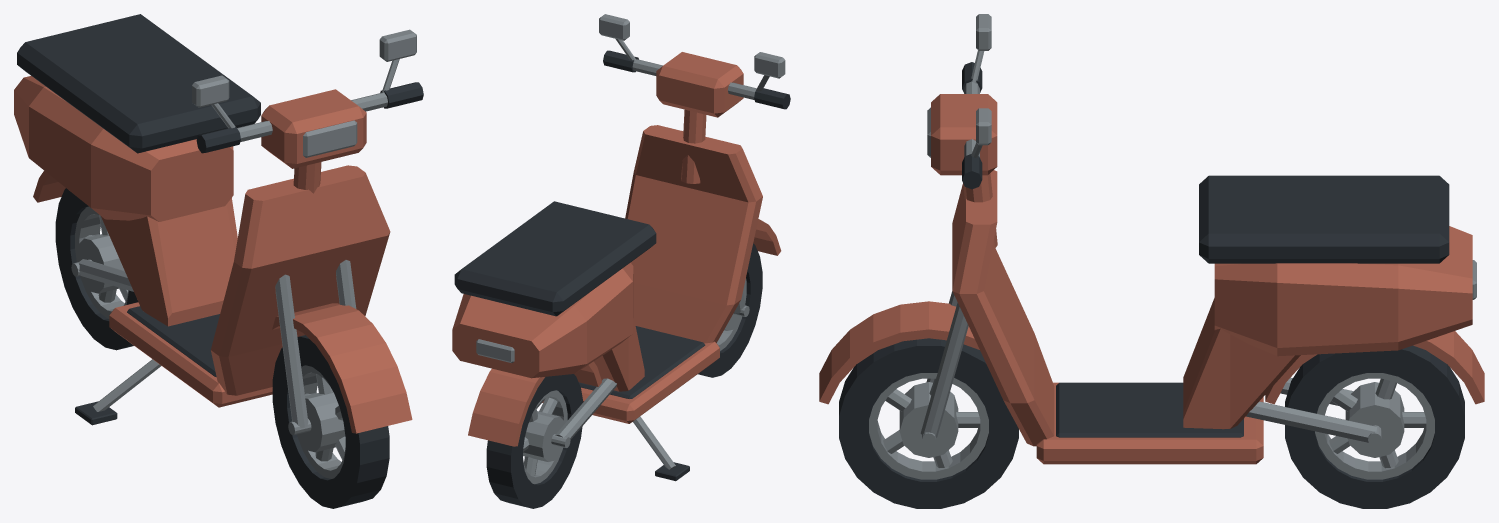
The picture shows the model from 3 angles, left to right: view 1: azimuth 30°, elevation 25°; view 2: azimuth 150°, elevation 25°; view 3: azimuth 270°, elevation 25°; orthographic projection. The views are drawn at different scales.
Parts seen in each view (by area): view 1: Tapered front leg shield, Single broad saddle, Sculpted rear seat body, Sloped seat body support, Front raised mudguard, Front flat tread tire, Headlamp handle housing, Low step floorboard, Rear flat tread tire, Fork leg, Inset foot platform, Front static hub (+15 smaller); view 2: Tapered front leg shield, Single broad saddle, Sculpted rear seat body, Rear flat tread tire, Headlamp handle housing, Rear raised mudguard, Low step floorboard, Inset foot platform, Front flat tread tire, Sloped seat body support, Rear static hub, Rear swing support (+11 smaller); view 3: Sculpted rear seat body, Single broad saddle, Rear flat tread tire, Front flat tread tire, Tapered front leg shield, Inset foot platform, Sloped seat body support, Low step floorboard, Front raised mudguard, Headlamp handle housing, Front restrained rim, Rear restrained rim (+5 smaller).
Part boxes in pixels (box(x1,y1,x2,y2)): Tapered front leg shield: box(211, 165, 390, 395); Single broad saddle: box(17, 14, 260, 153); Sculpted rear seat body: box(14, 76, 233, 221); Sloped seat body support: box(101, 198, 237, 326); Front raised mudguard: box(272, 303, 412, 433); Front flat tread tire: box(272, 335, 389, 508); Headlamp handle housing: box(261, 89, 366, 168); Low step floorboard: box(109, 302, 272, 407); Rear flat tread tire: box(55, 188, 138, 350); Fork leg: box(275, 274, 308, 428); Inset foot platform: box(127, 306, 219, 376); Front static hub: box(298, 392, 345, 452); Tapered front leg shield: box(625, 125, 762, 343); Single broad saddle: box(454, 201, 656, 316); Sculpted rear seat body: box(452, 262, 633, 378); Rear flat tread tire: box(486, 374, 583, 508); Headlamp handle housing: box(656, 52, 743, 117); Rear raised mudguard: box(468, 361, 601, 446); Low step floorboard: box(542, 341, 719, 423); Inset foot platform: box(579, 326, 705, 398); Front flat tread tire: box(698, 243, 762, 377); Sloped seat body support: box(594, 316, 644, 391); Rear static hub: box(523, 411, 564, 461); Rear swing support: box(555, 378, 616, 439); Sculpted rear seat body: box(1214, 226, 1472, 356); Single broad saddle: box(1199, 175, 1449, 263); Rear flat tread tire: box(1285, 345, 1464, 508); Front flat tread tire: box(839, 338, 1018, 508); Tapered front leg shield: box(952, 170, 1054, 446); Inset foot platform: box(1056, 382, 1243, 437); Sloped seat body support: box(1183, 298, 1300, 429); Low step floorboard: box(1036, 382, 1263, 464); Front raised mudguard: box(819, 301, 979, 404); Headlamp handle housing: box(931, 94, 997, 175); Front restrained rim: box(869, 373, 988, 479); Rear restrained rim: box(1315, 373, 1434, 479).
Bounding box in the file's own units: 0.67 × 1.22 × 1.7.
